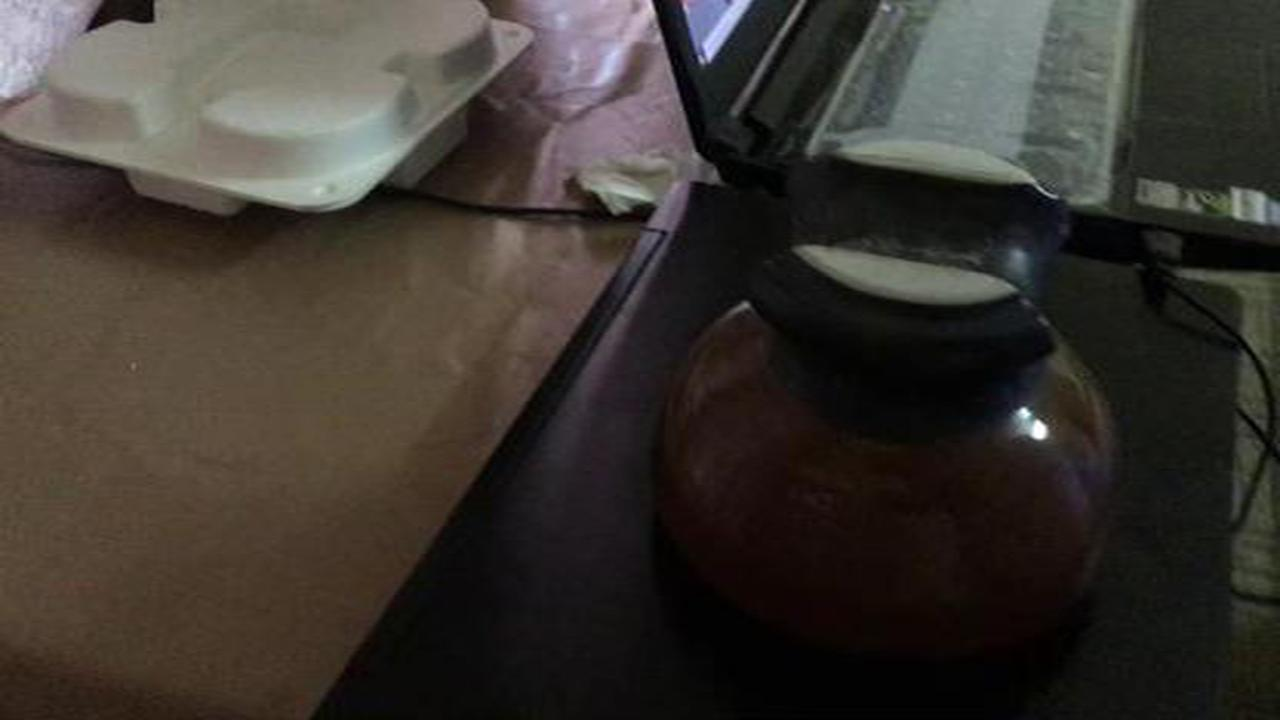insulator_pin: (634, 125, 1164, 691)
